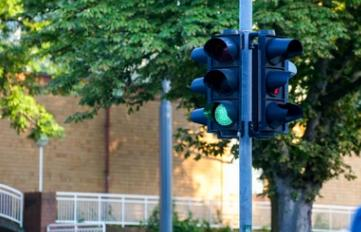green_light: (203, 35, 241, 132)
